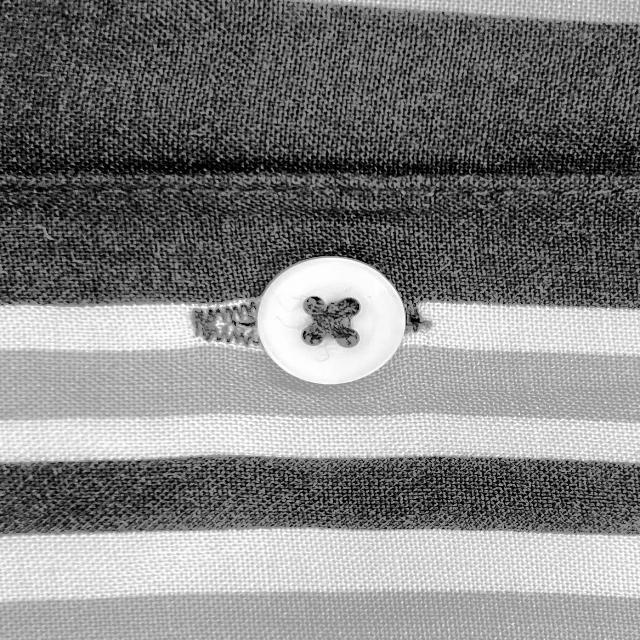Button_hike: (183, 246, 436, 393)
